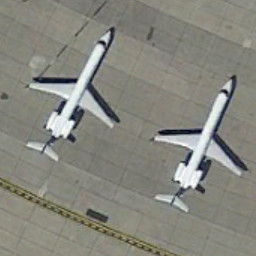Airplane: (138, 62, 251, 218), (13, 21, 123, 165)
